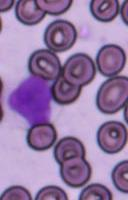M: (4, 74, 52, 128)
